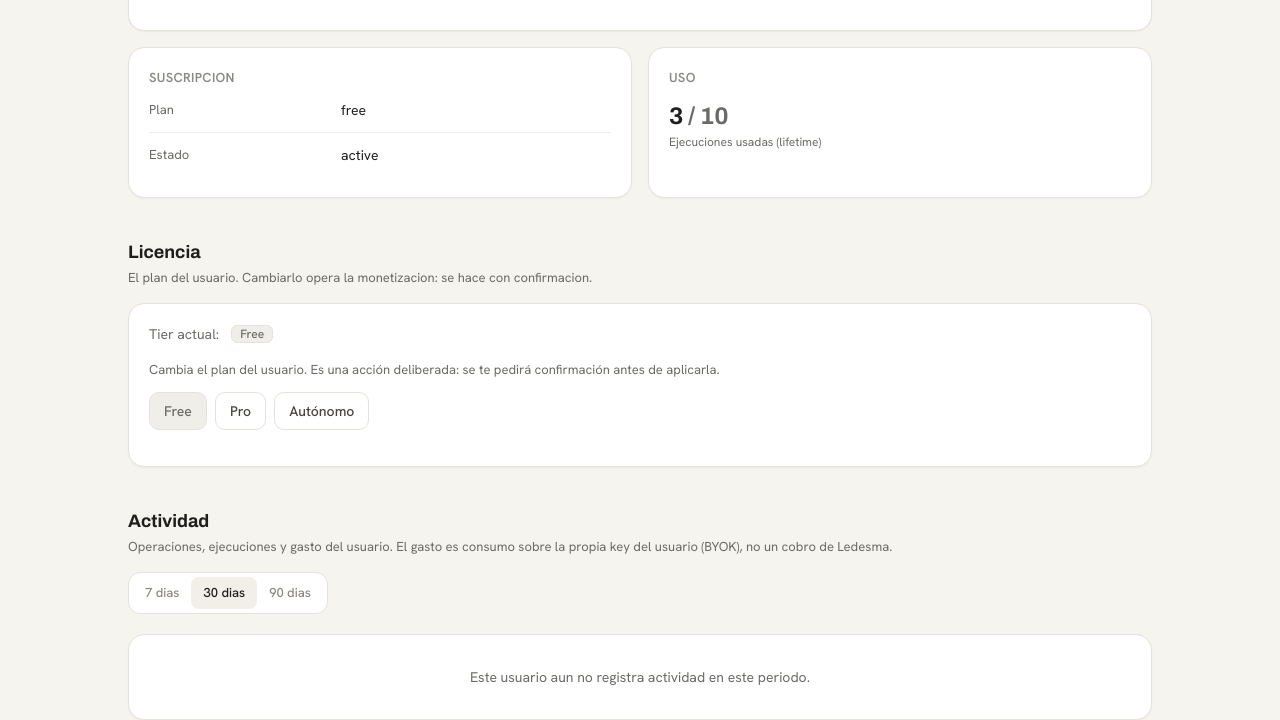
Scenario: AdminUserDetailPage › cancelar cierra el dialogo sin ejecutar
(page scrolled)
Click the button "Autónomo": [322, 410] box [274, 392, 369, 430]
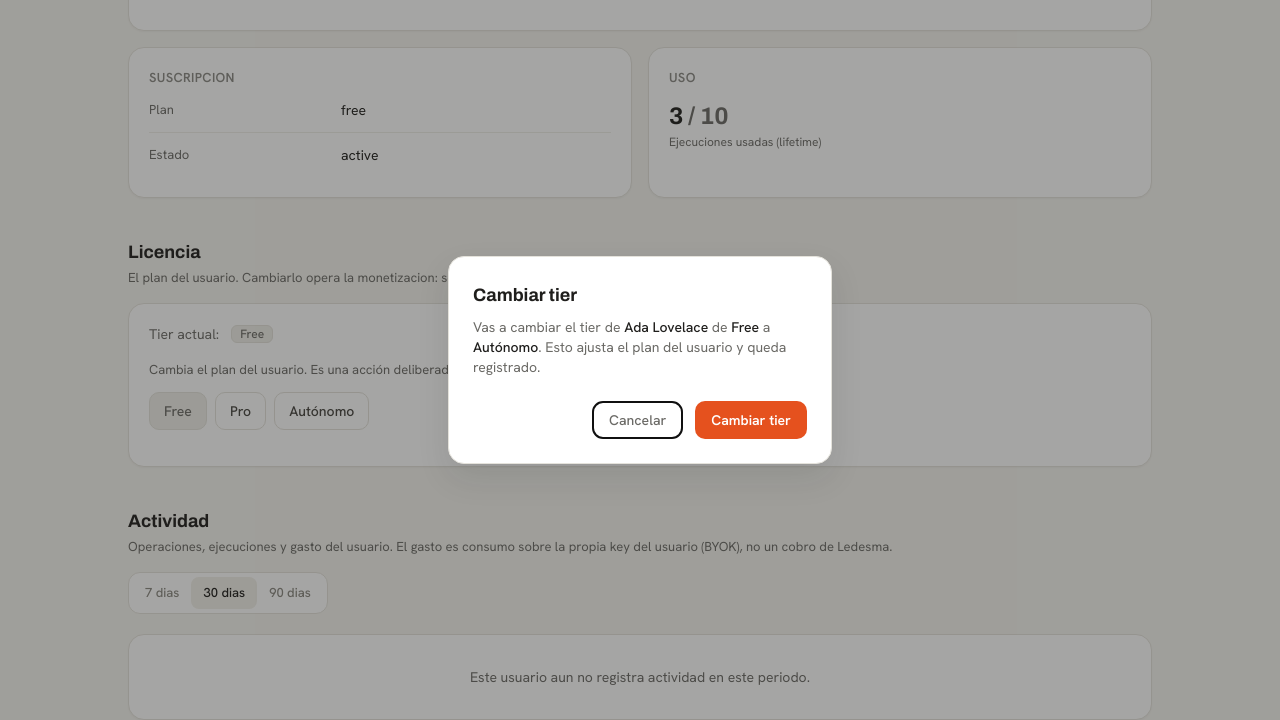
Check: the dialog "Cambiar tier" is shown, box [448, 256, 832, 464]
Click the button "Cancelar": [638, 420] box [592, 401, 683, 439]
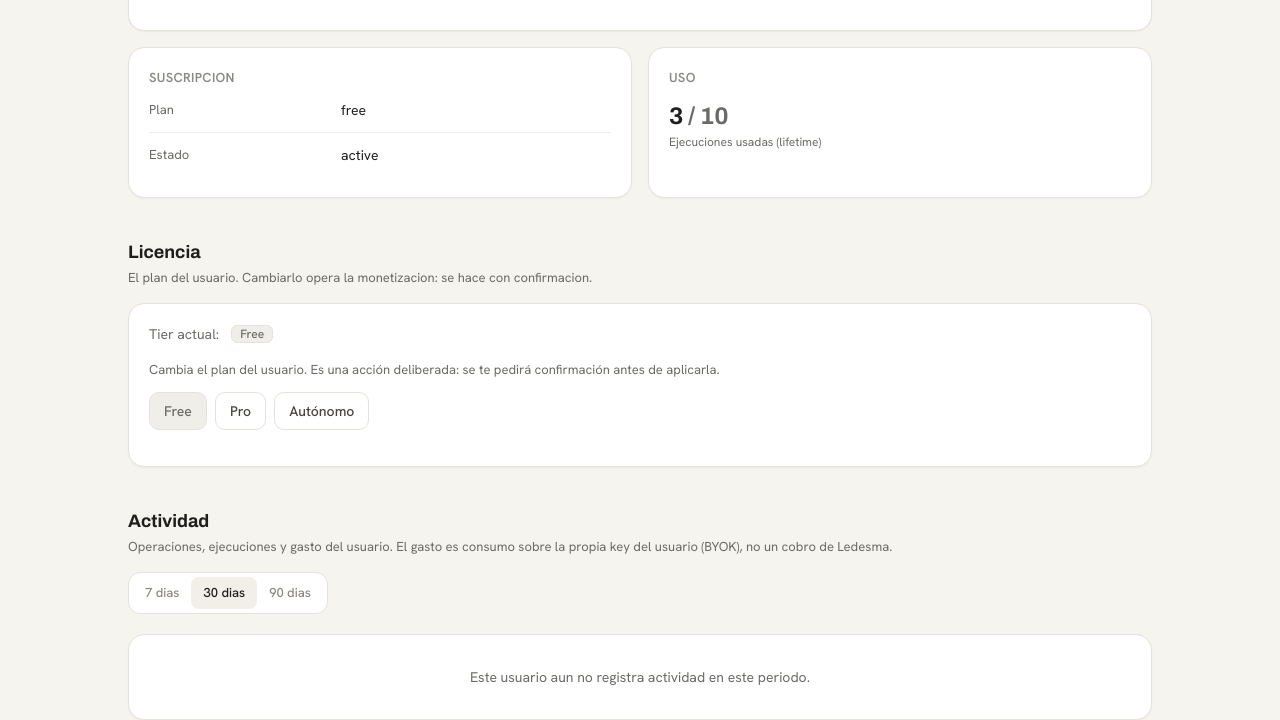
Check: the heading "Cambiar tier" is gone
